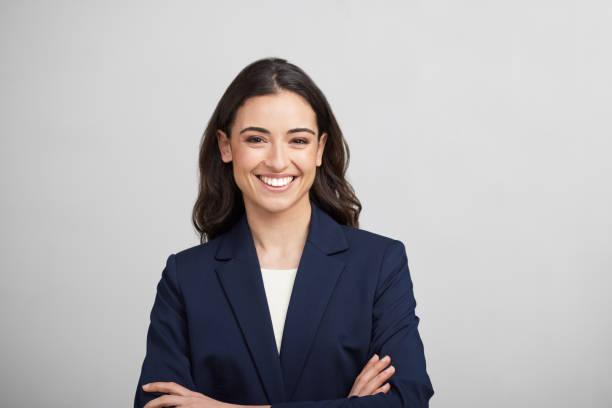no_goggle: (228, 119, 334, 151)
no_helmet: (188, 50, 368, 134)
no_vest: (132, 209, 434, 405)
